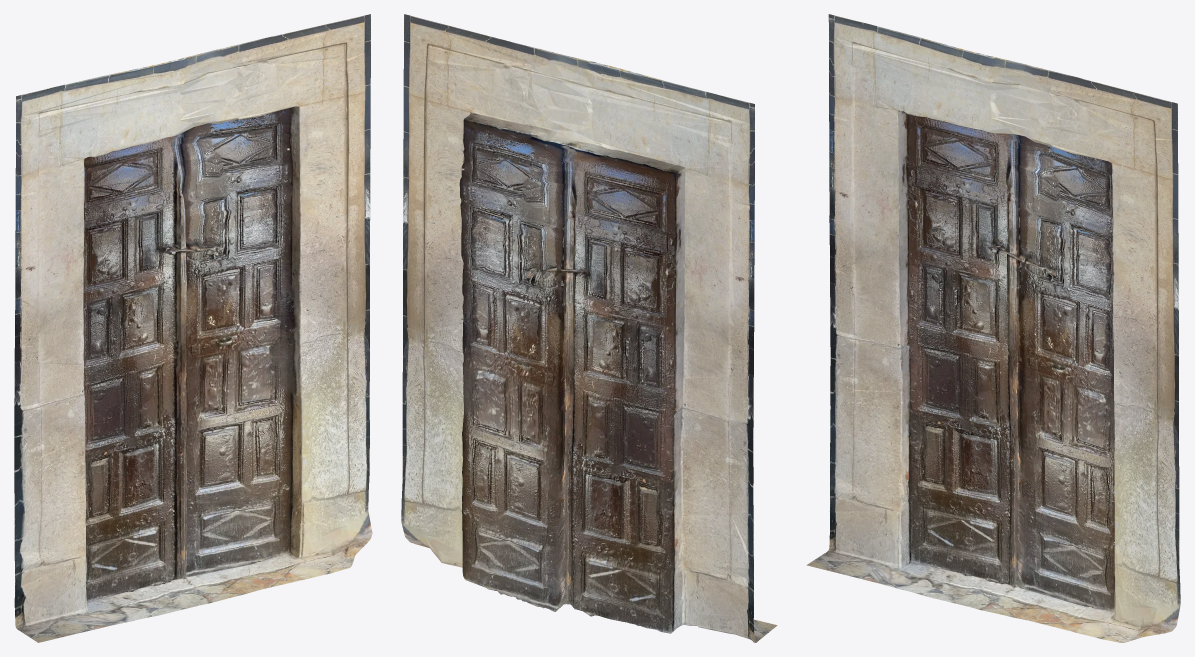
Rendered from wooden-door-with-tilework-zawiya-of-sid.glb.
The picture shows the model from 3 angles, left to right: view 1: azimuth 30°, elevation 25°; view 2: azimuth 150°, elevation 25°; view 3: azimuth 330°, elevation 25°; orthographic projection.
Visible parts, largest first — view 1: Object_3; view 2: Object_3; view 3: Object_3.
Boxes of the visible parts, left/top/right/bottom form: Object_3: left=14, top=14, right=372, bottom=642; Object_3: left=401, top=14, right=777, bottom=642; Object_3: left=806, top=14, right=1180, bottom=642.
Bounding box in the file's own units: 1.61 × 2.35 × 0.2967.
Materials: 1 (1 with a texture image).
